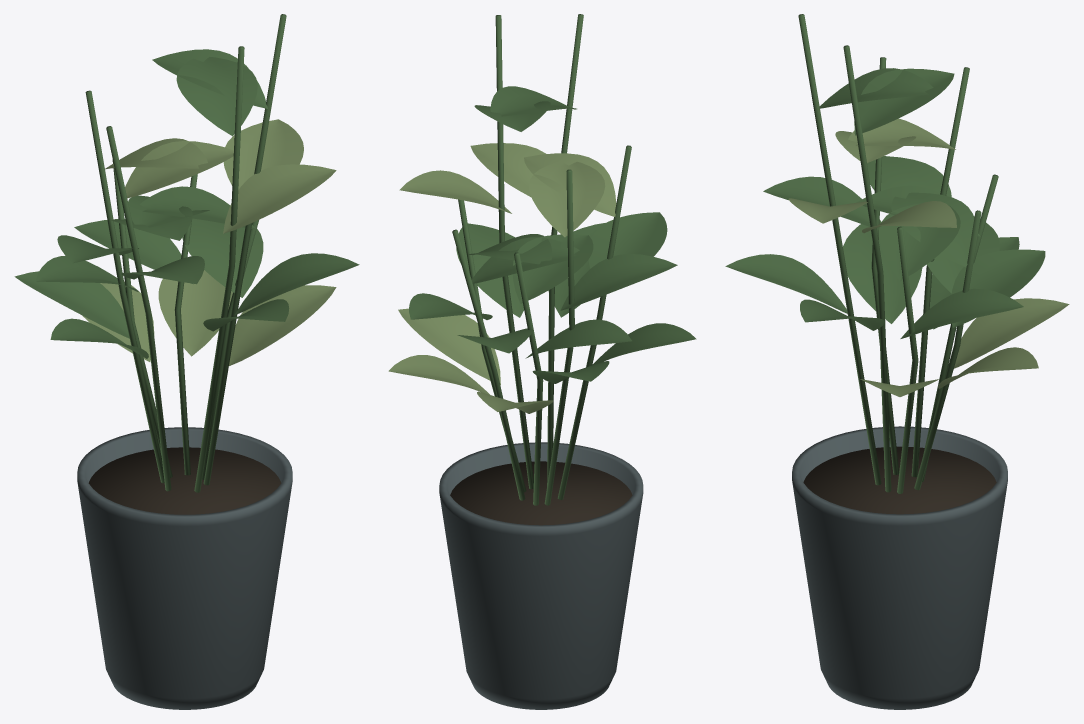
Rendered from industrial.plant.gltf.
3 views of the same model, side by side, from view 1: azimuth 30°, elevation 25°; view 2: azimuth 150°, elevation 25°; view 3: azimuth 270°, elevation 25° (orthographic). The views are drawn at different scales.
Parts seen in each view (by area): view 1: industrial.plant.pot; view 2: industrial.plant.pot; view 3: industrial.plant.pot.
Part boxes in pixels (x1,y1,x2,y2): industrial.plant.pot: (14, 14, 359, 709); industrial.plant.pot: (388, 14, 696, 709); industrial.plant.pot: (725, 14, 1069, 709).
Size of the model in its own units: 0.3406 by 0.7205 by 0.3369.
